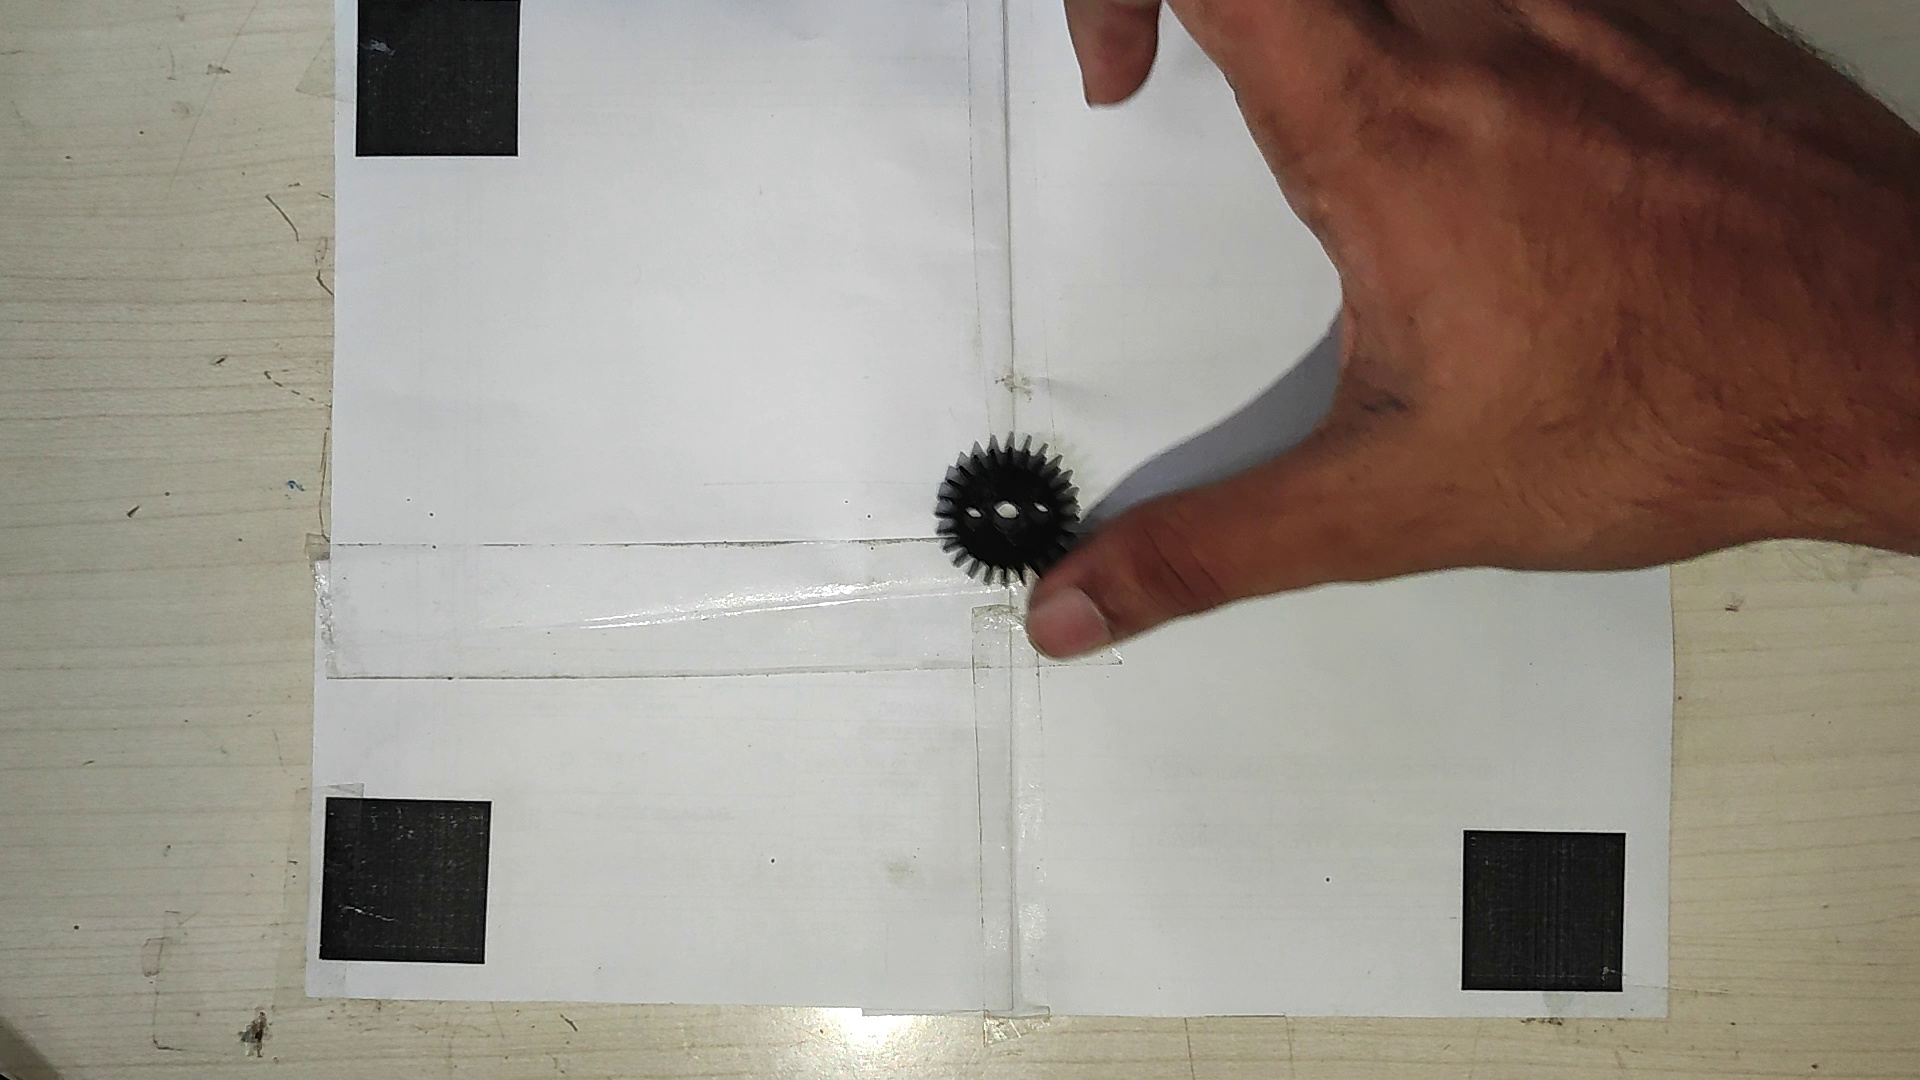Gear: (926, 432, 1087, 588)
